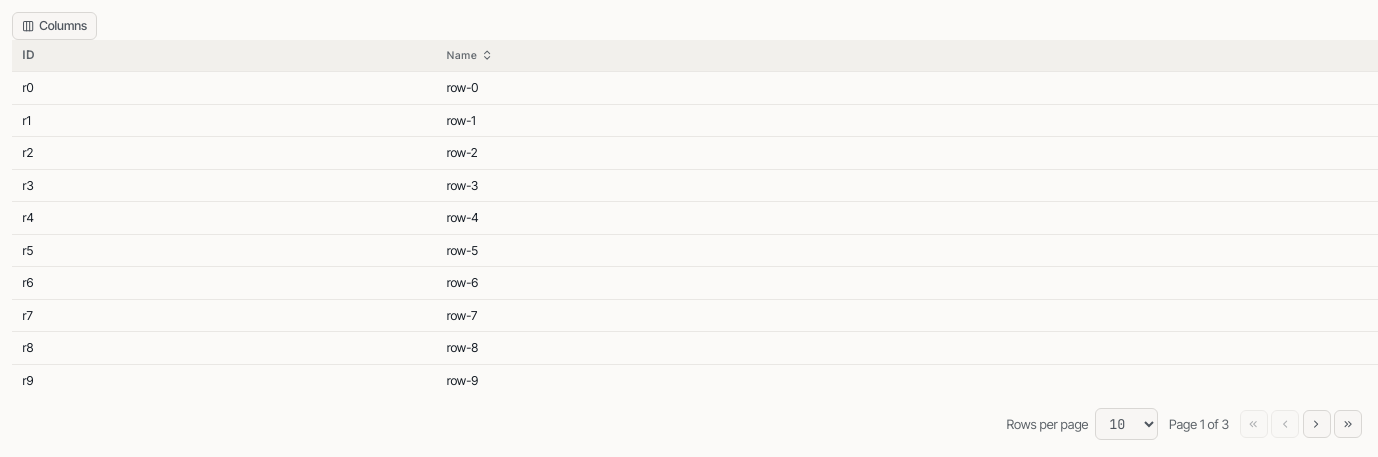
Scenario: DataTable › uses human-readable labels in the Columns menu when provided
Click the button "Columns" at {"x": 54, "y": 26}, box [12,12,97,40]
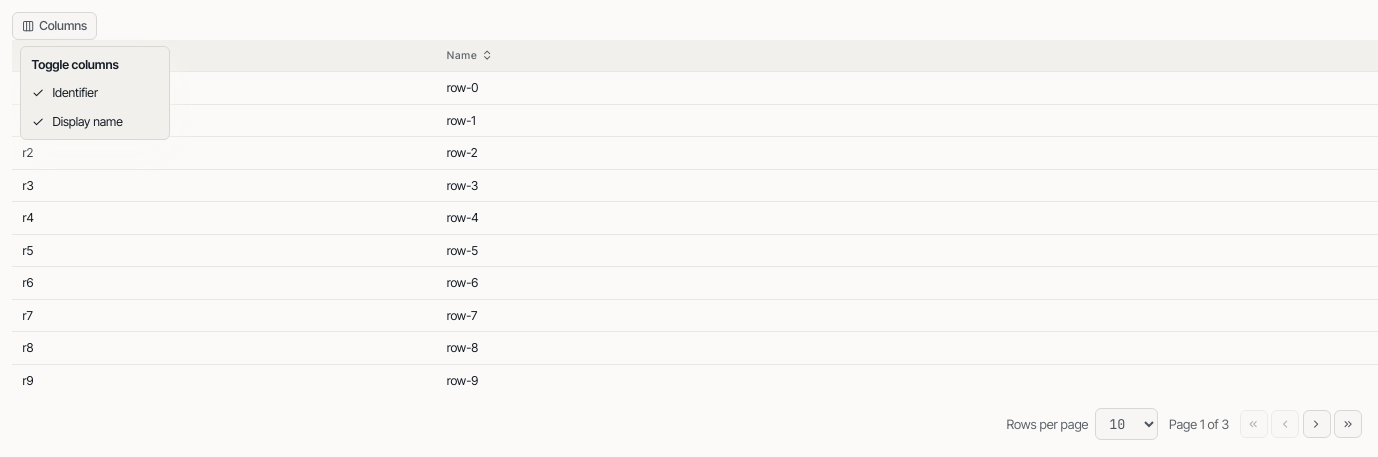
Now the menu item "Identifier" is shown, box [32,85,98,100]
Now the menu item "Display name" is shown, box [32,114,123,129]
